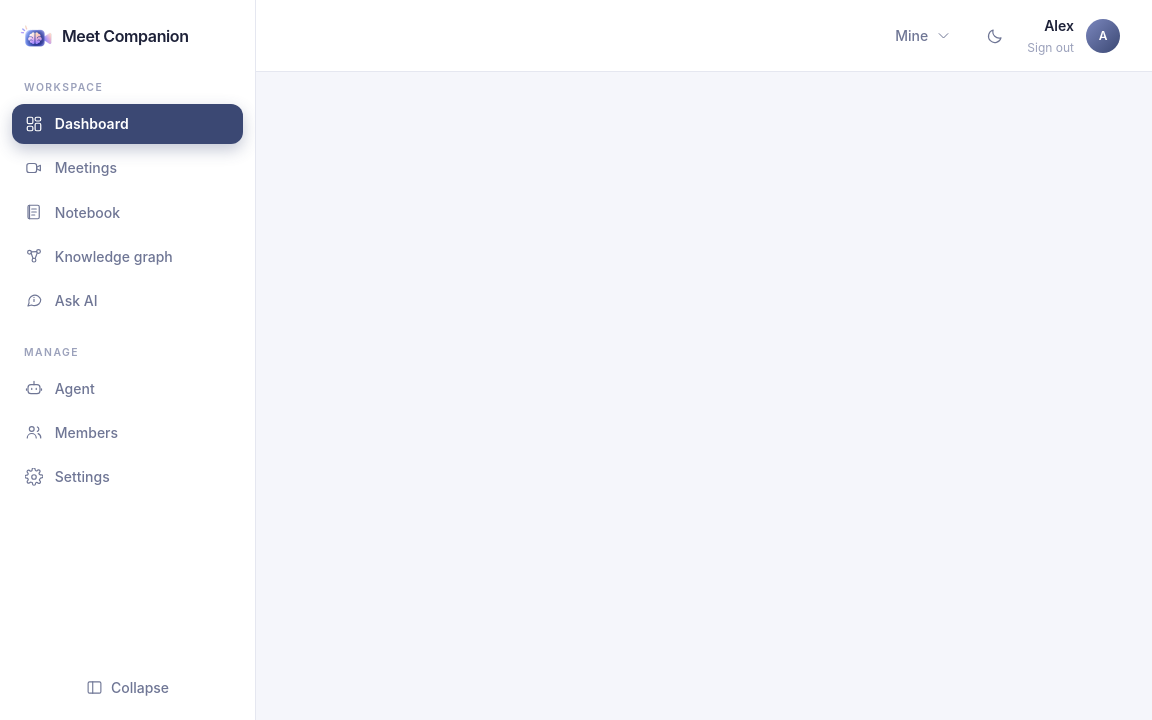
Scenario: joining a workspace from the picker › a code that is not on that database is refused before the app switches to it
The width and height of the screenshot is (1152, 720).
Step 1. Click the button titled "Switch workspace" → (923, 36), box [879, 15, 967, 56]
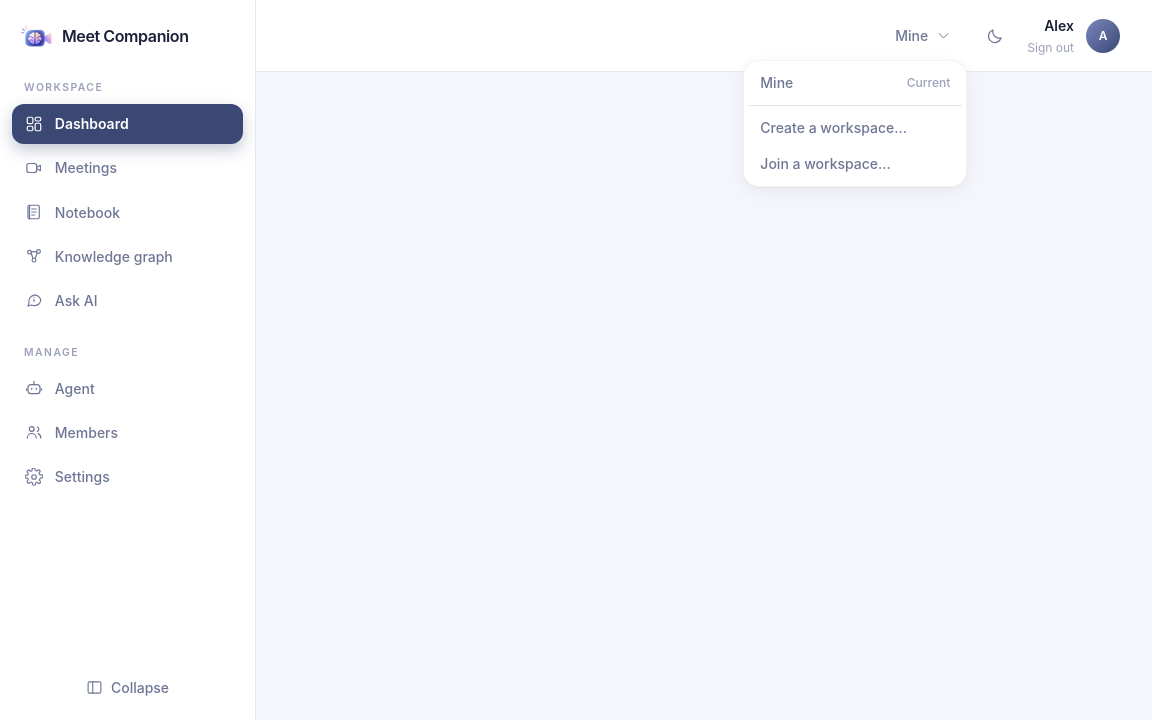
Step 2. Click the button "Join a workspace…" → (855, 164), box [748, 146, 962, 182]
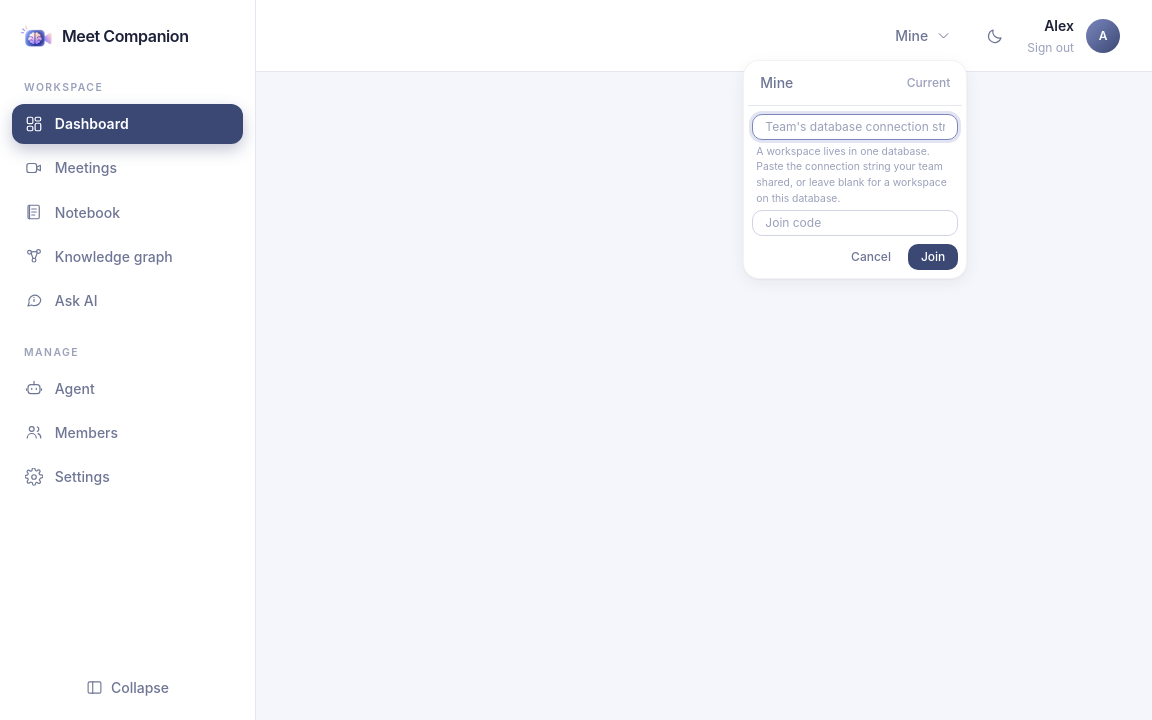
Step 3. Type "nope" into the field named "Workspace join code" → (855, 223), box [752, 210, 958, 236]
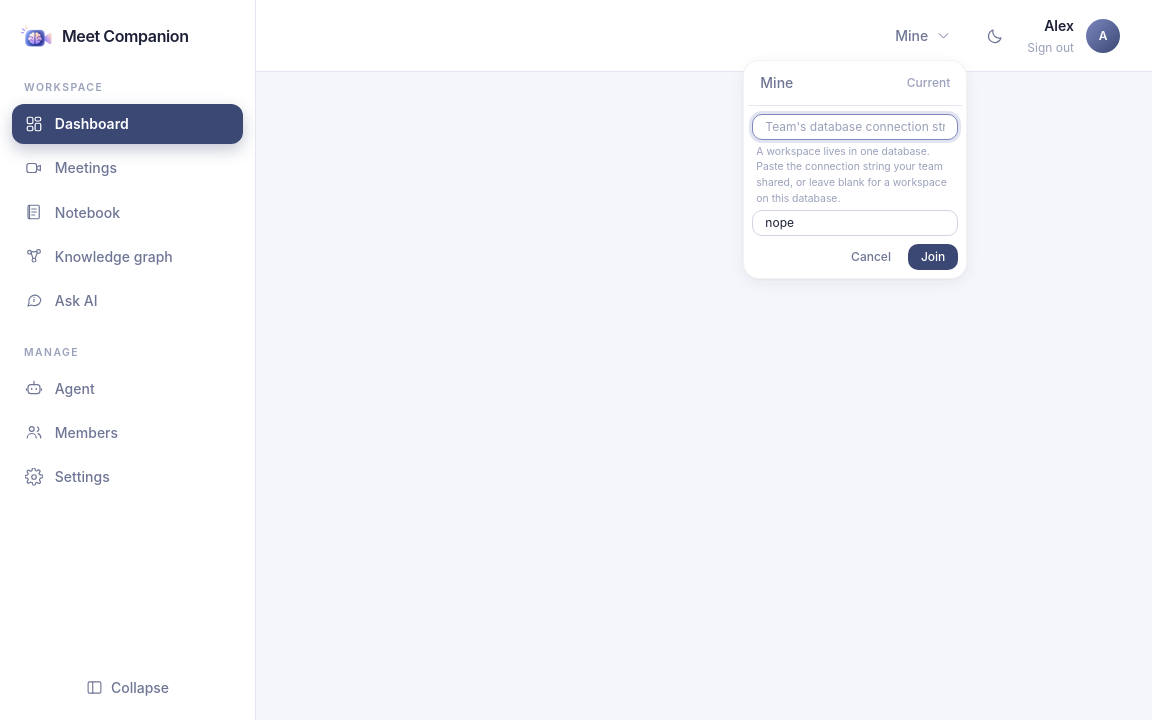
Step 4. Type "postgresql://u:p@h/db" into the field labelled "database connection string" → (855, 127), box [752, 114, 958, 140]
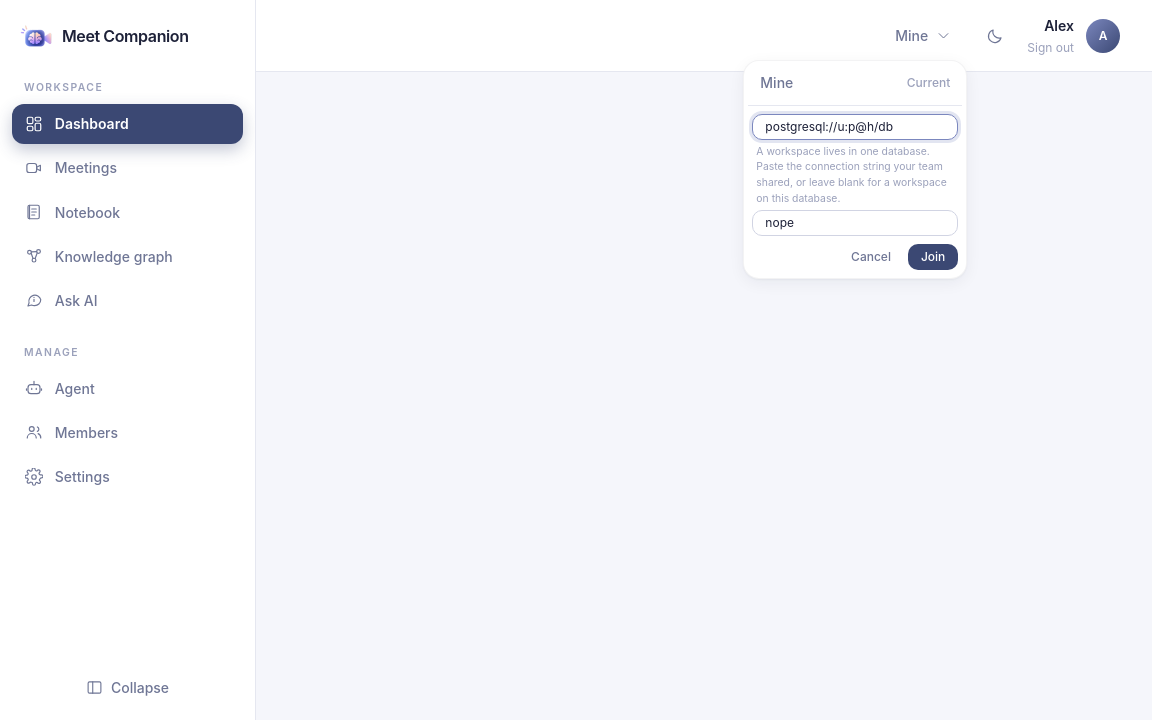
Step 5. Click the button "Join" → (933, 257), box [908, 244, 958, 270]
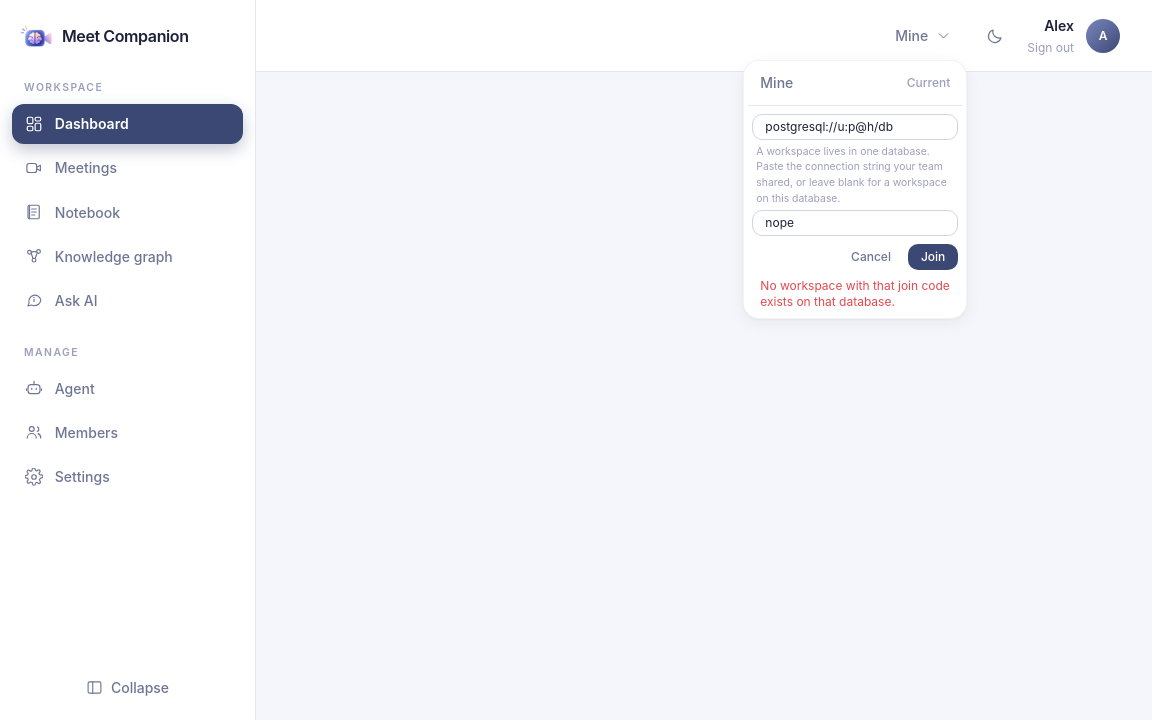
Result: the text "No workspace with that join code exists on that database." is shown at [748, 274, 962, 314]
